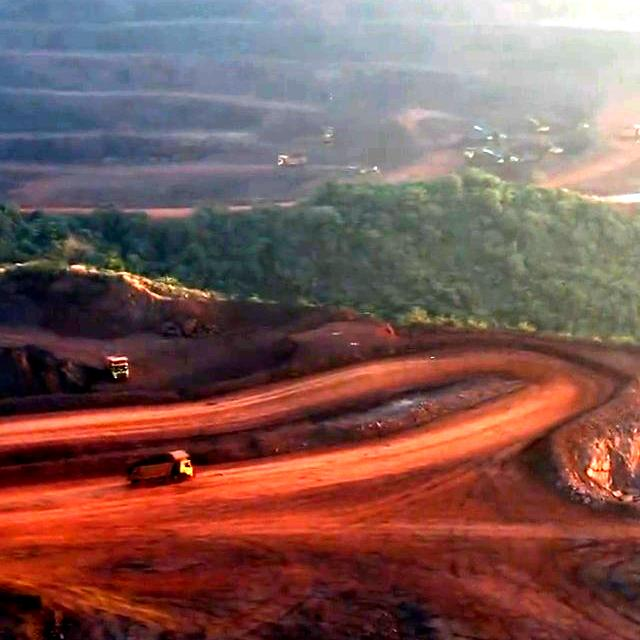Dumper truck: (128, 455, 191, 479), (107, 353, 131, 382)
